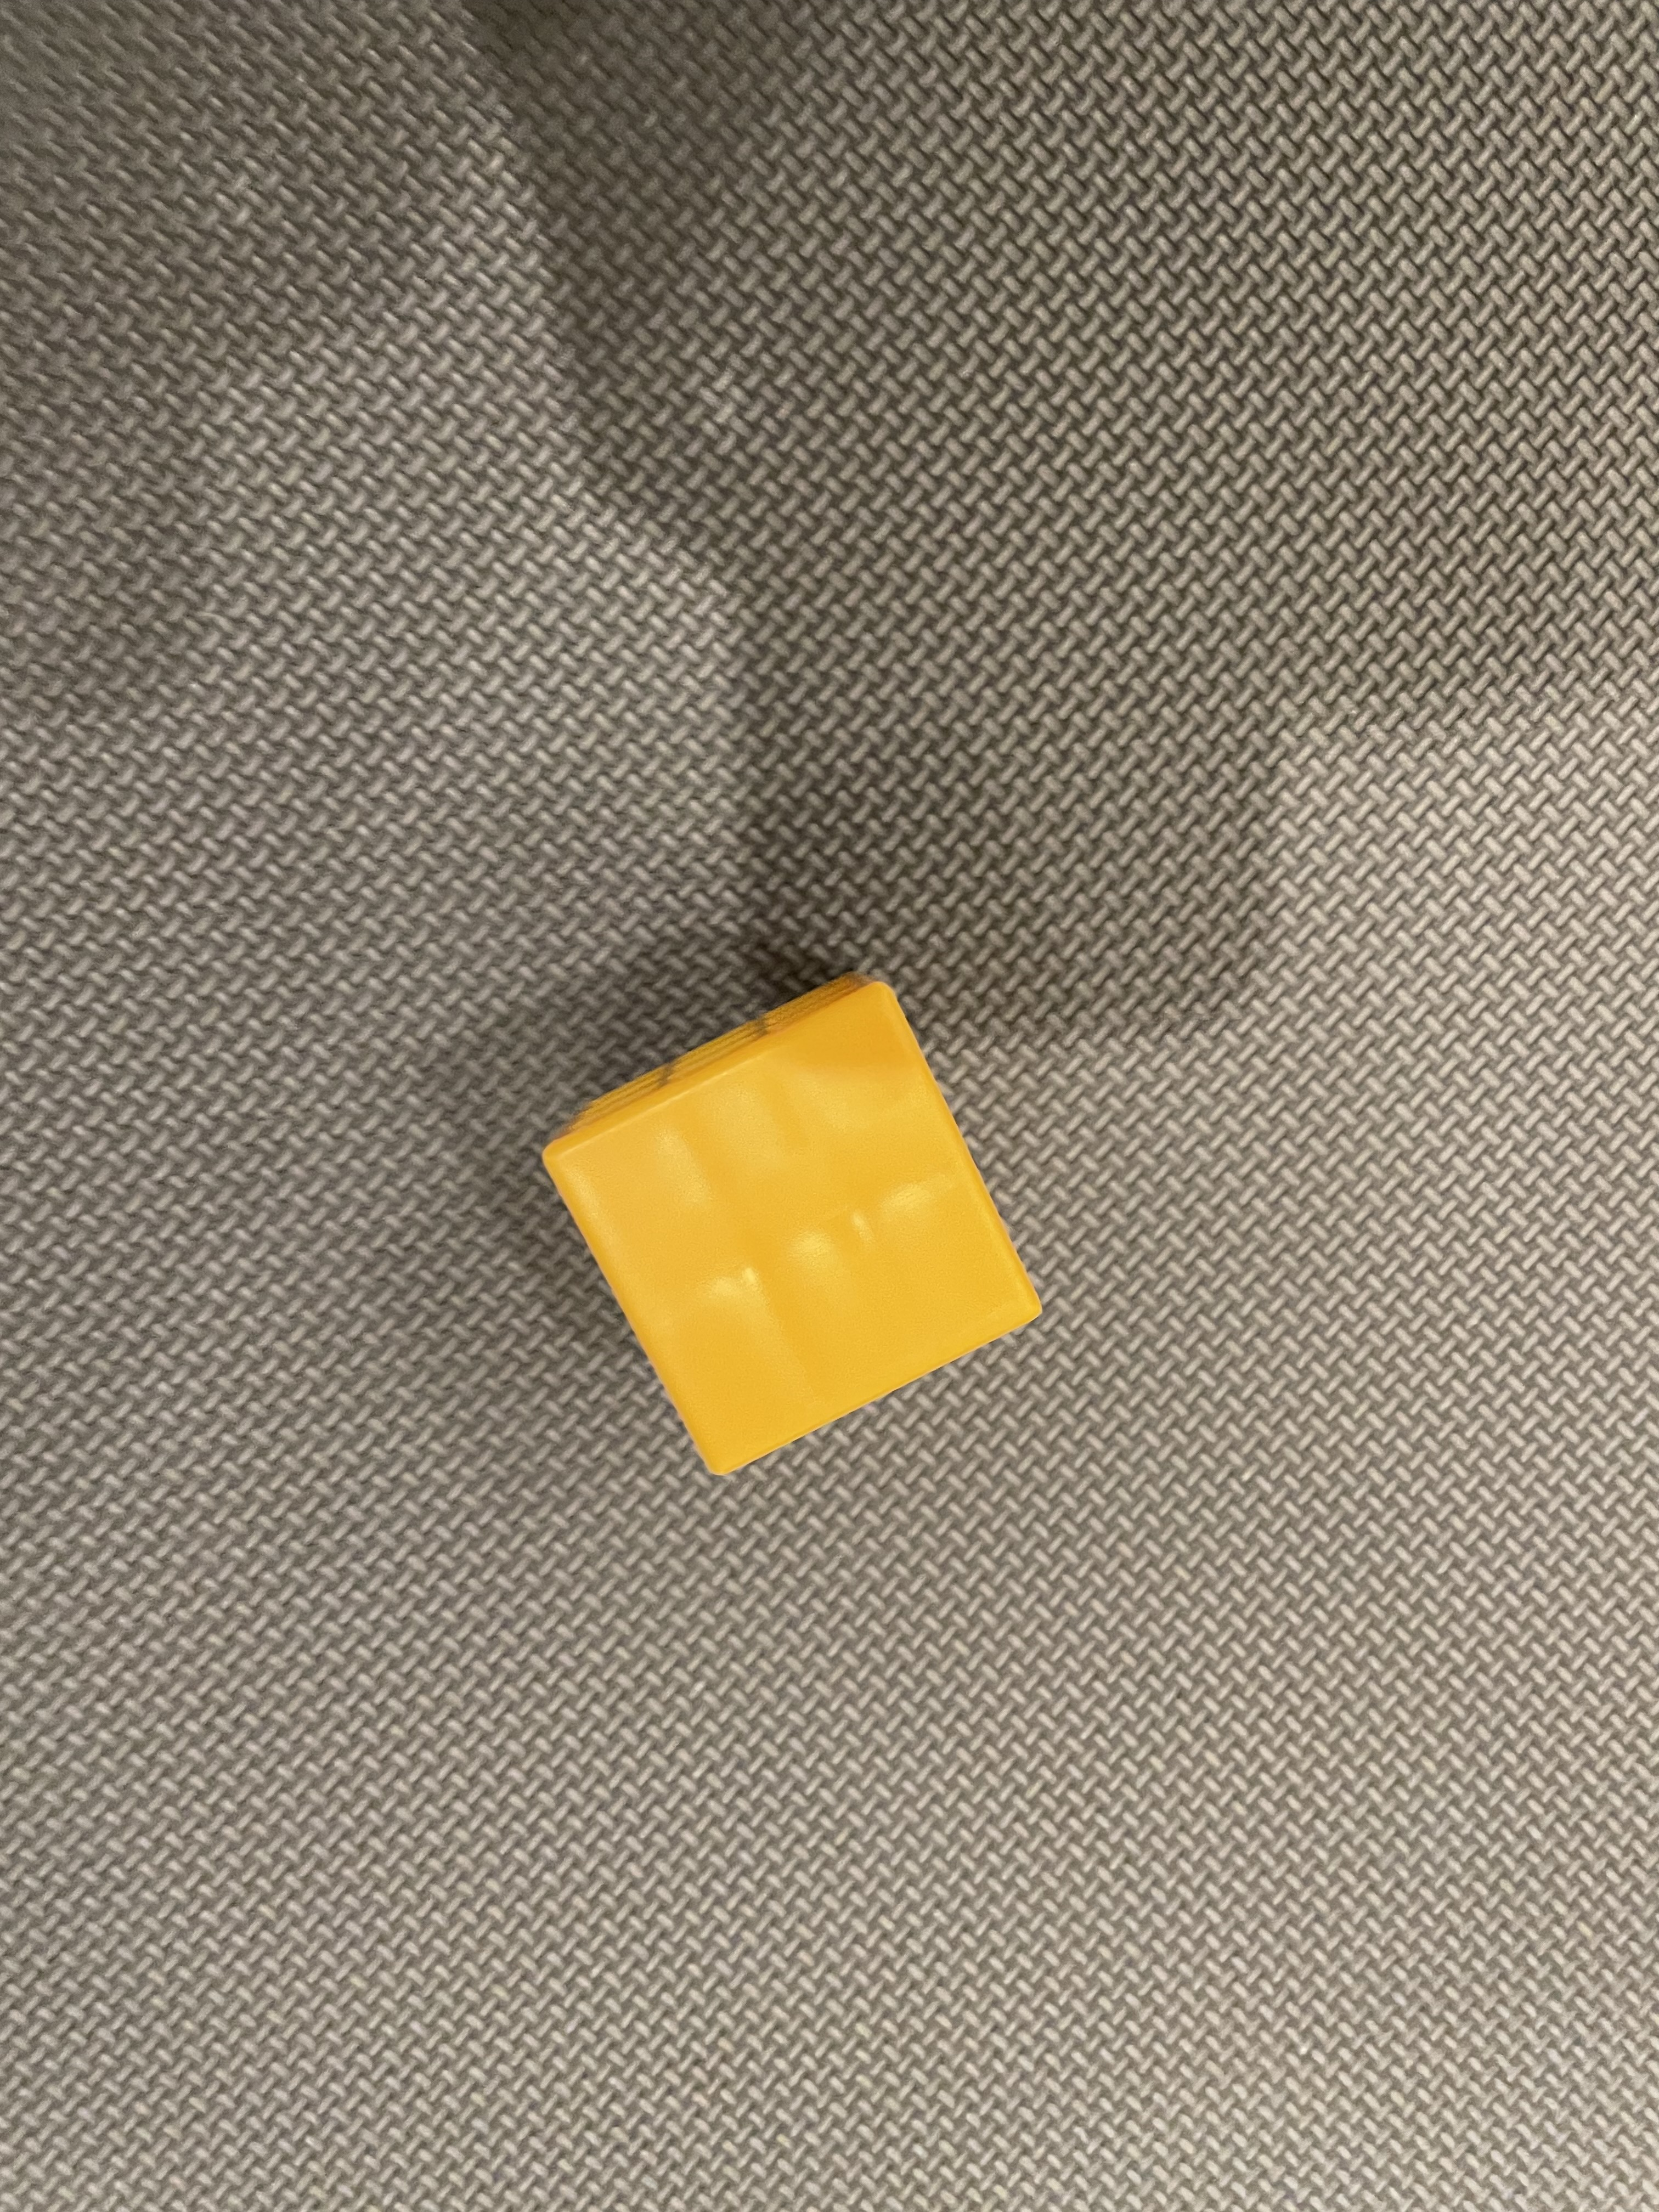cube: (491, 942, 1086, 1533)
